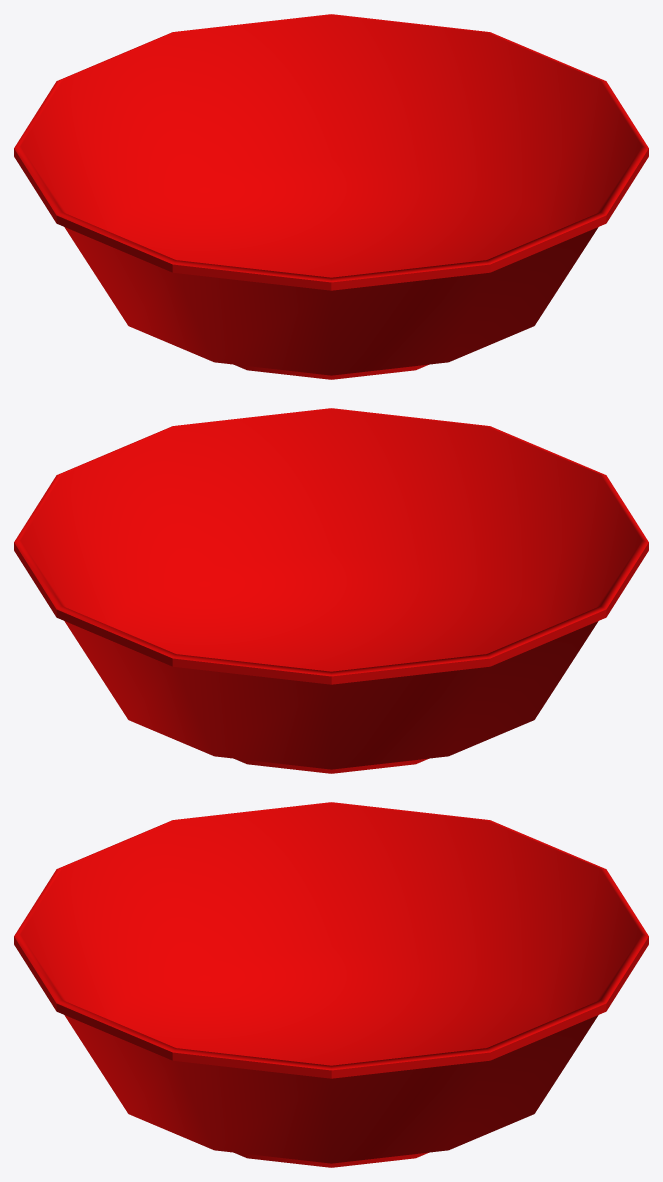
File: Bowl.fbx
The picture shows the model from 3 angles, top to bottom: view 1: azimuth 30°, elevation 25°; view 2: azimuth 150°, elevation 25°; view 3: azimuth 270°, elevation 25°; orthographic projection.
Visible parts, largest first — view 1: Bowl; view 2: Bowl; view 3: Bowl.
Boxes of the visible parts, box(x1,y1,x2,y2) form: Bowl: box(14, 14, 648, 379); Bowl: box(14, 408, 648, 773); Bowl: box(14, 802, 648, 1167).
Bounding box in the file's own units: 133 × 37.57 × 133.
